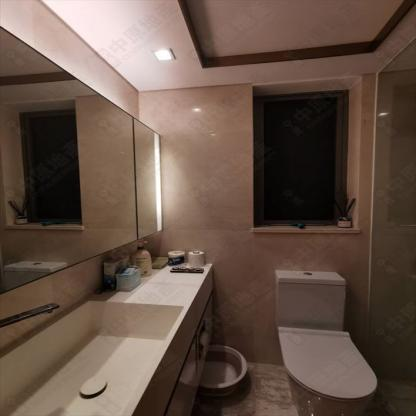Faucet: (6, 302, 64, 324)
Toilet: (276, 269, 377, 412)
Toilet Sink: (2, 299, 181, 415)
